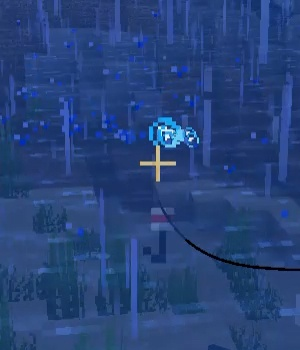down: (141, 203, 180, 266)
